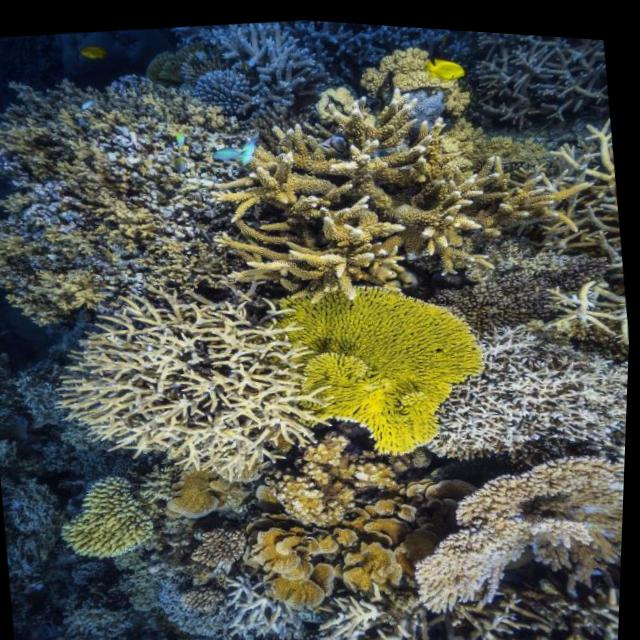Bleached Coral: (419, 313, 632, 461)
Healthy Coral: (214, 81, 583, 300), (38, 270, 323, 498), (398, 428, 628, 627), (285, 266, 485, 450), (250, 495, 424, 615), (250, 414, 409, 535), (66, 468, 144, 564), (180, 509, 267, 572)
